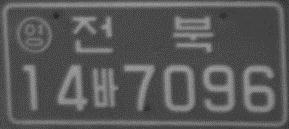0: (162, 63, 196, 112)
1: (17, 62, 48, 111)
4: (56, 64, 87, 110)
6: (241, 64, 275, 113)
7: (123, 63, 154, 111)
9: (203, 64, 236, 112)
바: (92, 67, 117, 108)
영: (15, 15, 53, 55)
전북_D: (70, 14, 214, 56)
